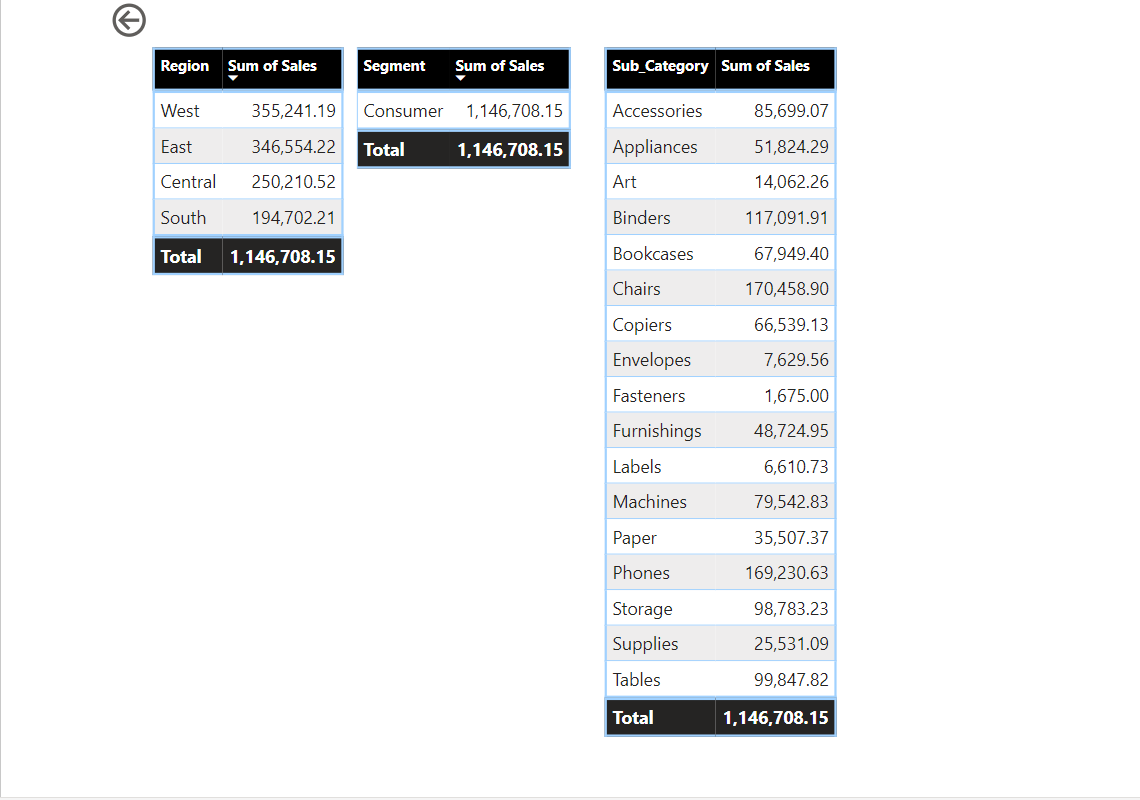

This screenshot's page, from the dashboard's own definition file:
{"tool":"powerbi","page":{"name":"Details","canvas":[1280,720],"ordinal":2},"visuals":[{"type":"actionButton","box":[0,0,100,40],"z":0},{"type":"tableEx","fields":{"Values":["Sales_cleaned.Segment","Sum(Sales_cleaned.Sales)"]},"box":[217.9,39.9,224.7,191.6],"z":1000},{"type":"tableEx","fields":{"Values":["Sales_cleaned.Region","Sum(Sales_cleaned.Sales)"]},"box":[35,39.9,189.7,219.8],"z":2000},{"type":"tableEx","fields":{"Values":["Sales_cleaned.Sub_Category","Sum(Sales_cleaned.Sales)"]},"box":[442.6,39.9,221.8,641],"z":3000}]}

Visuals, with their boxes on the page's 1280x720 design canvas (x1, y1, x2, y2). These are canvas units, not pixel positions in the 1140x800 screenshot, which may show the page scaled, cropped or inside an application window:
actionButton: box=[0, 0, 100, 40]
tableEx - Sales_cleaned.Segment x Sum(Sales_cleaned.Sales): box=[218, 40, 443, 232]
tableEx - Sales_cleaned.Region x Sum(Sales_cleaned.Sales): box=[35, 40, 225, 260]
tableEx - Sales_cleaned.Sub_Category x Sum(Sales_cleaned.Sales): box=[443, 40, 664, 681]
